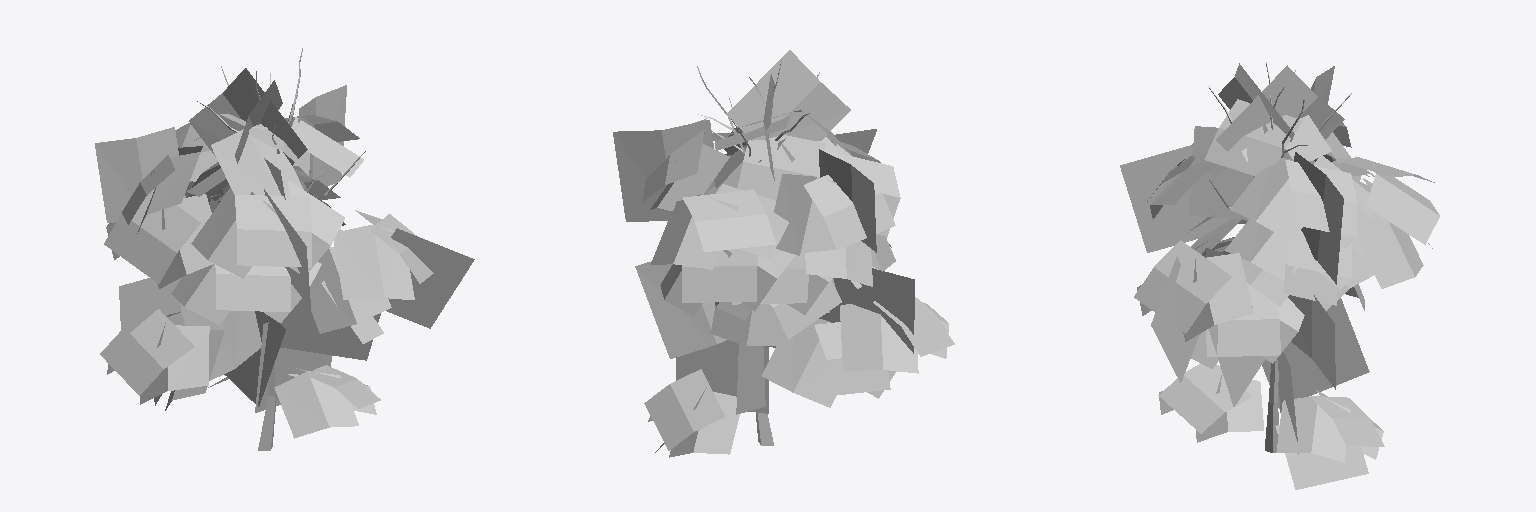
Rendered from tree3a_lod1.obj.
The picture shows the model from 3 angles: view 1: azimuth 30°, elevation 25°; view 2: azimuth 150°, elevation 25°; view 3: azimuth 270°, elevation 25°; orthographic projection.
Visible parts, largest first — view 1: leaves 0.0 0.[number redacted] 0.0 0 0 0 0.[number redacted] 0.[number redacted], bark -0.[number redacted] -0.[number redacted] -0.[number redacted]; view 2: leaves 0.0 0.[number redacted] 0.0 0 0 0 0.[number redacted] 0.[number redacted], bark -0.[number redacted] -0.[number redacted] -0.[number redacted]; view 3: leaves 0.0 0.[number redacted] 0.0 0 0 0 0.[number redacted] 0.[number redacted], bark -0.[number redacted] -0.[number redacted] -0.[number redacted].
Part boxes in pixels (x1,y1,x2,y2): leaves 0.0 0.[number redacted] 0.0 0 0 0 0.[number redacted] 0.[number redacted]: (95,68,474,438); bark -0.[number redacted] -0.[number redacted] -0.[number redacted]: (197,48,365,450); leaves 0.0 0.[number redacted] 0.0 0 0 0 0.[number redacted] 0.[number redacted]: (613,50,954,457); bark -0.[number redacted] -0.[number redacted] -0.[number redacted]: (697,60,819,445); leaves 0.0 0.[number redacted] 0.0 0 0 0 0.[number redacted] 0.[number redacted]: (1120,63,1439,489); bark -0.[number redacted] -0.[number redacted] -0.[number redacted]: (1208,62,1351,452).
Size of the model in its own units: 0.8422 by 1 by 0.7573.